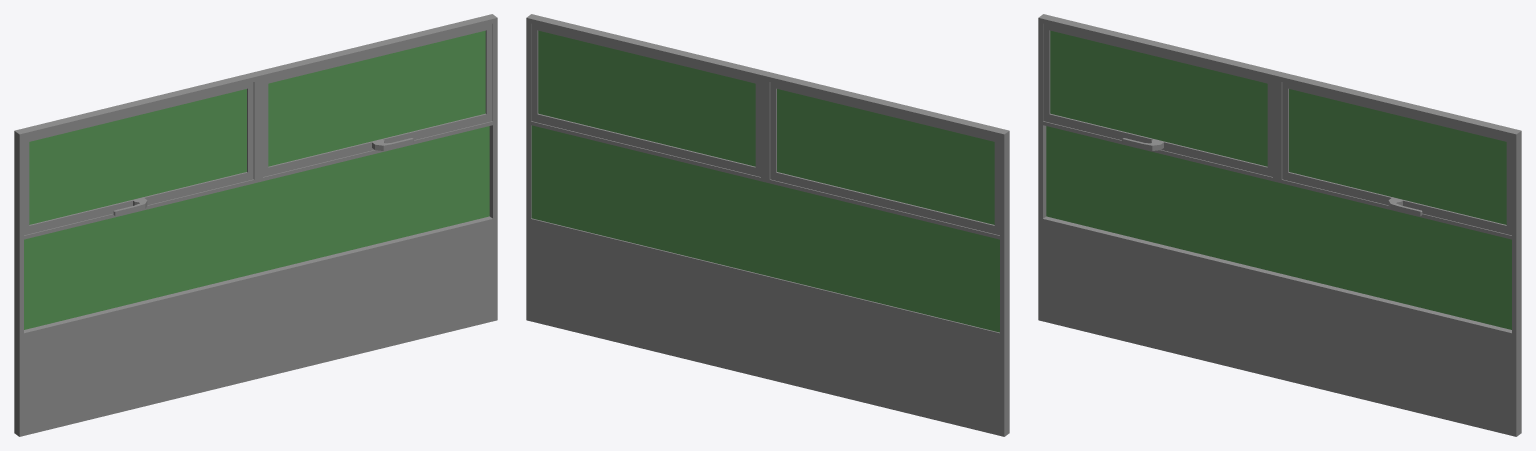
File: Wall_Windowed.FBX
The picture shows the model from 3 angles, left to right: view 1: azimuth 30°, elevation 25°; view 2: azimuth 150°, elevation 25°; view 3: azimuth 330°, elevation 25°; orthographic projection.
Parts seen in each view (by area): view 1: Wall_Windowed; view 2: Wall_Windowed; view 3: Wall_Windowed.
Boxes of the visible parts, x1,y1,x2,y2 form: Wall_Windowed: [14, 14, 497, 436]; Wall_Windowed: [526, 14, 1009, 436]; Wall_Windowed: [1038, 14, 1521, 436].
Size of the model in its own units: 110 by 66.5 by 4.43.
